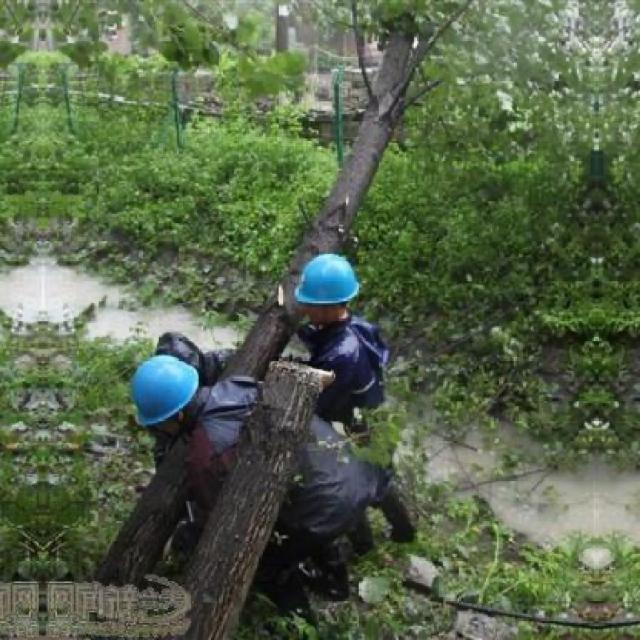helmet: (126, 346, 209, 440), (294, 250, 366, 324)
